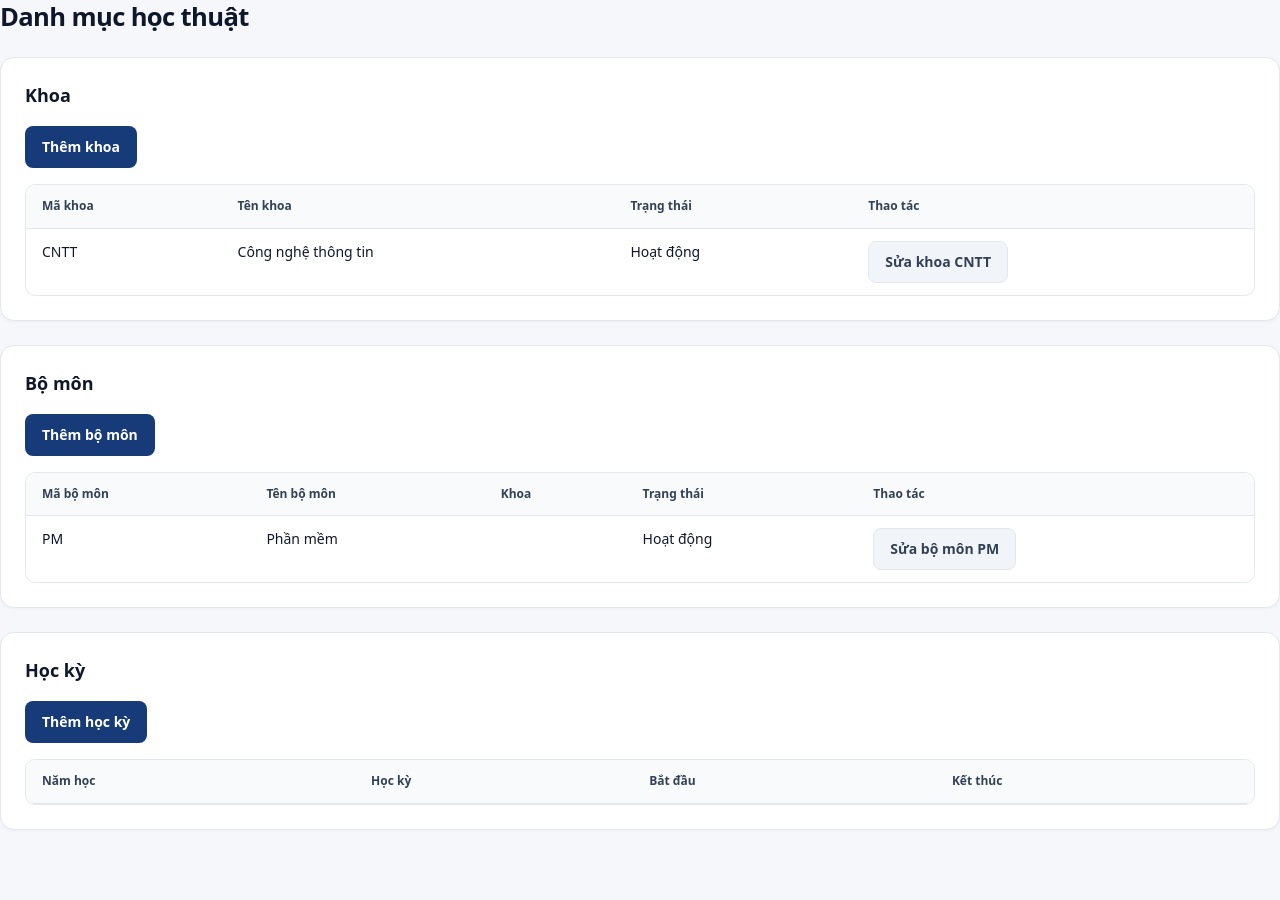
Test: lưu và mở lại trạng thái hoạt động của bộ môn theo cả hai chiều
What coordinates should you click on to do the following:
click the button "Sửa bộ môn PM"
I would click on:
 (945, 549)
Its box is [873,528,1016,570].
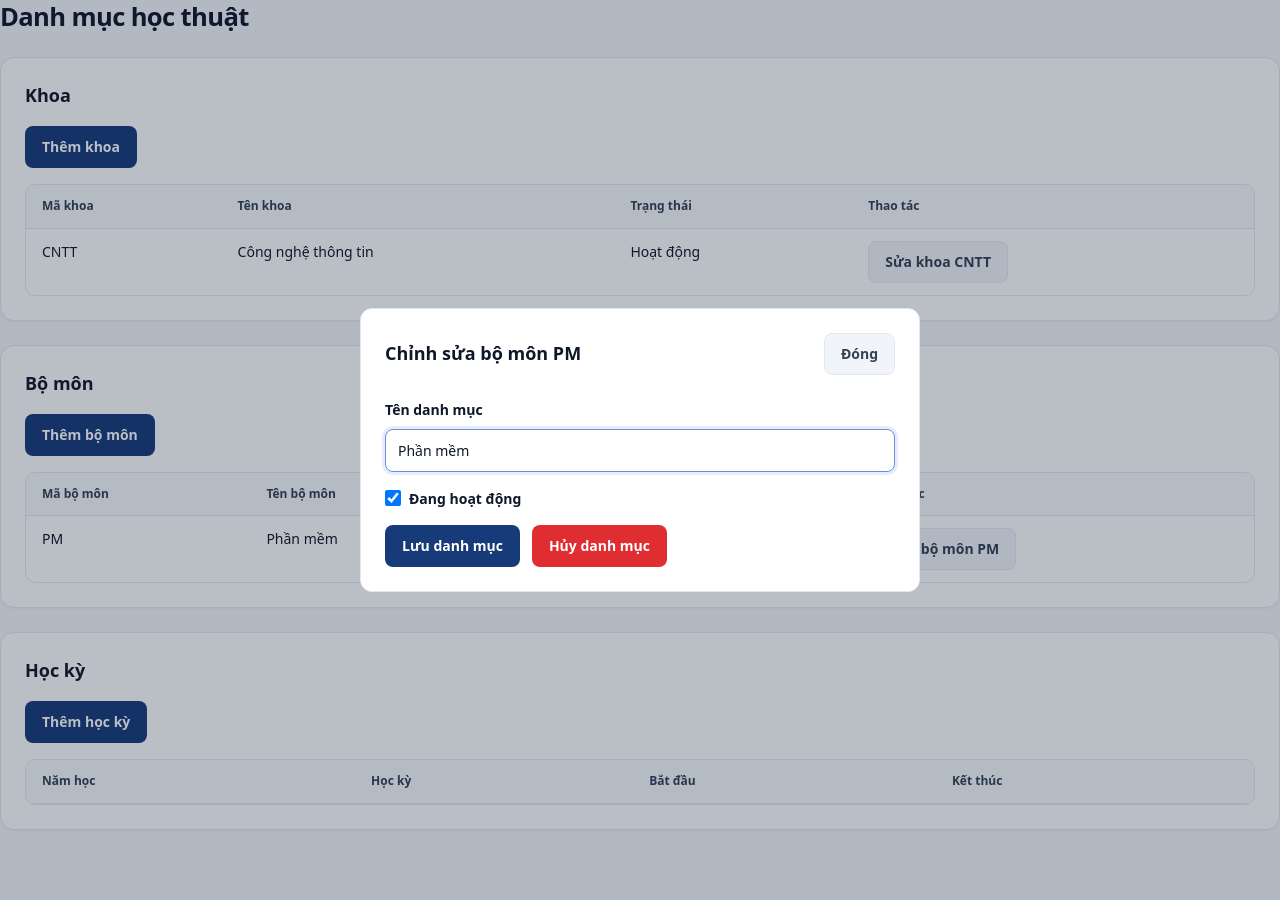
What coordinates should you click on to do the following:
click the checkbox labelled "Đang hoạt động"
I would click on:
 (393, 498)
Its box is [385,490,401,506].
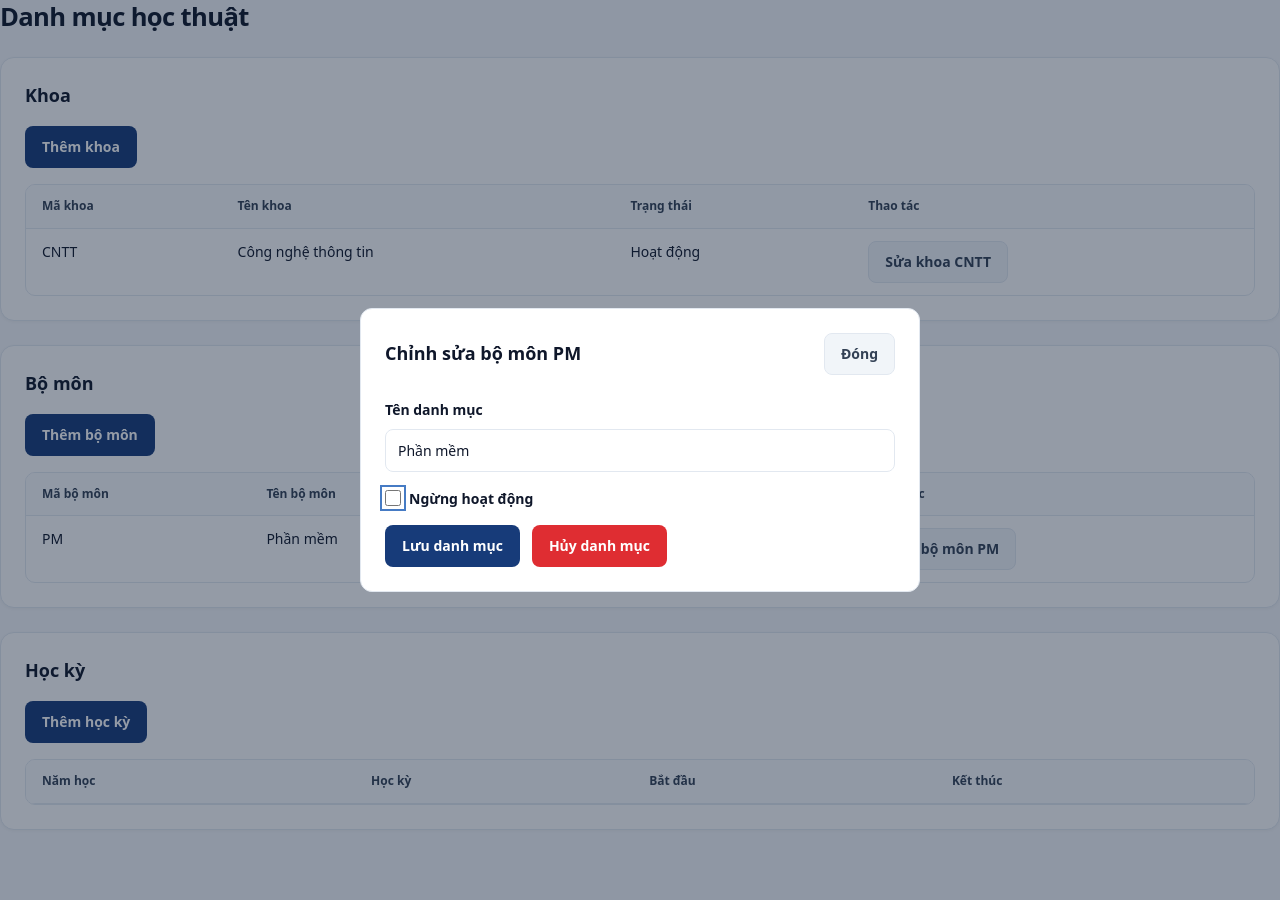
Check: the checkbox labelled "Ngừng hoạt động" is not checked, box [385,490,401,506]
What coordinates should you click on to do the following:
click the button "Lưu danh mục"
I would click on:
 (452, 546)
Its box is [385,525,520,567].
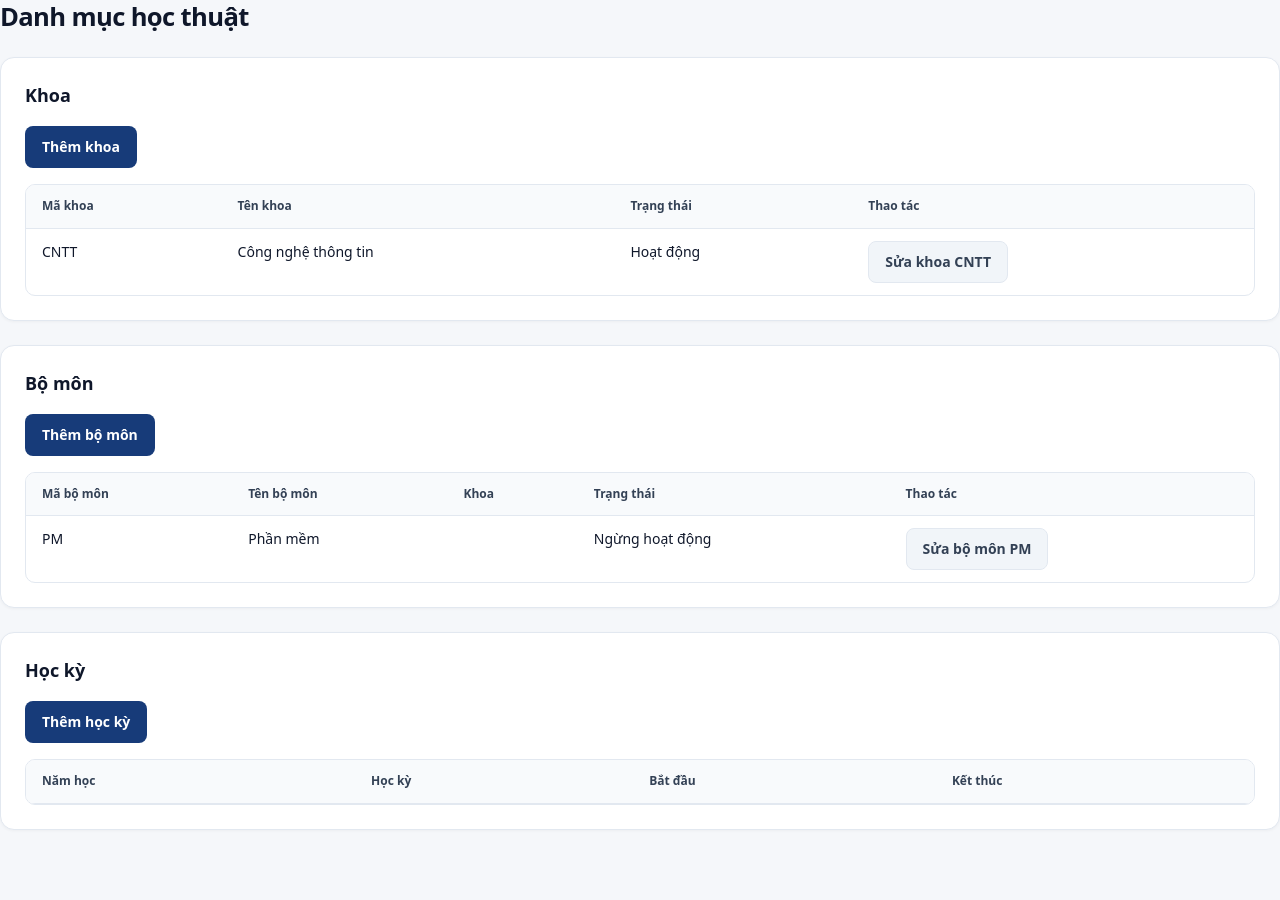
Check: the dialog is gone
Check: the row "Sửa bộ môn PM" shows "Ngừng hoạt động", box [594,529,711,548]
What coordinates should you click on to do the following:
click the button "Sửa bộ môn PM"
I would click on:
 (977, 549)
Its box is [906,528,1048,570].
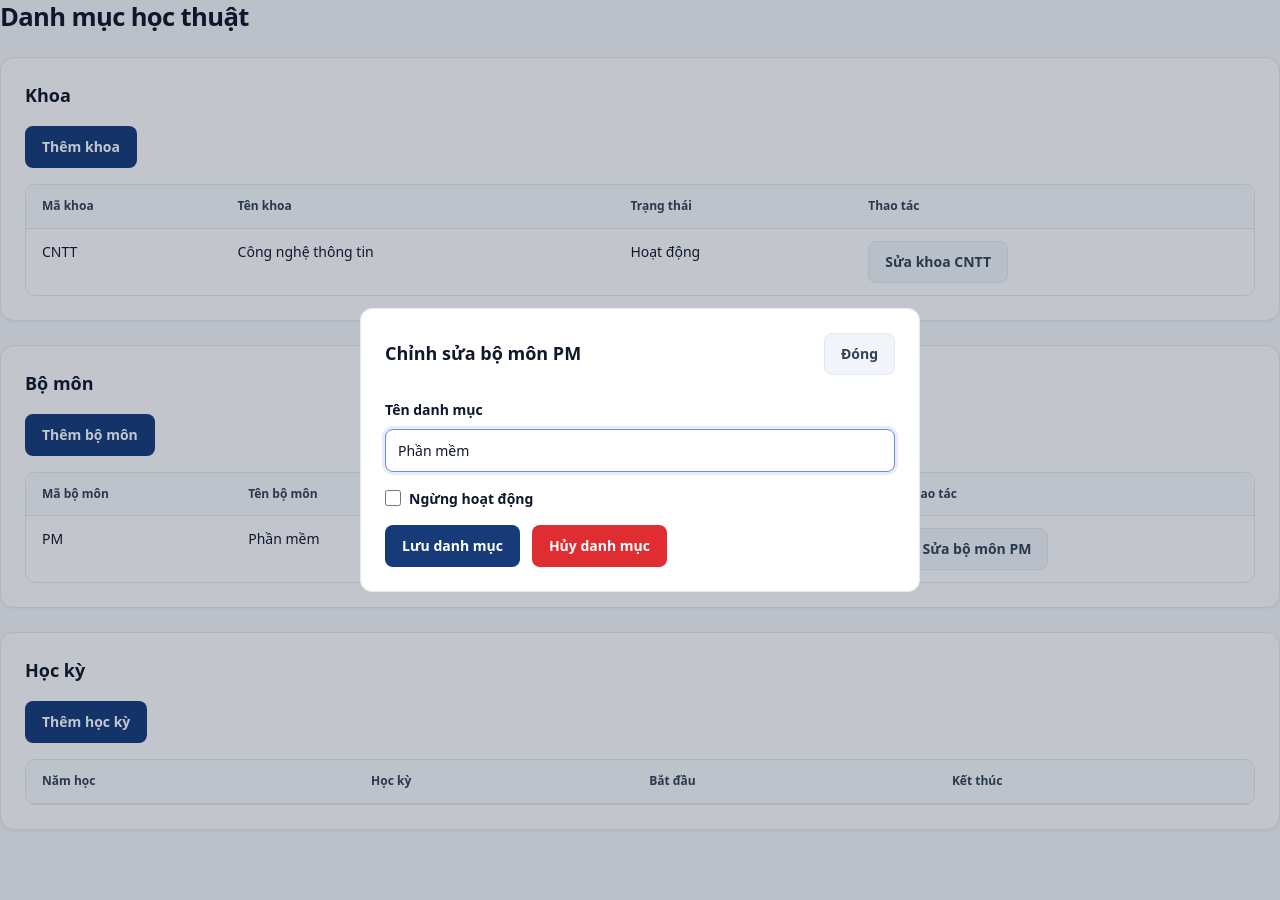
Check: the checkbox labelled "Ngừng hoạt động" is not checked
What coordinates should you click on to do the following:
click the checkbox labelled "Ngừng hoạt động"
I would click on:
 (393, 498)
Its box is [385,490,401,506].
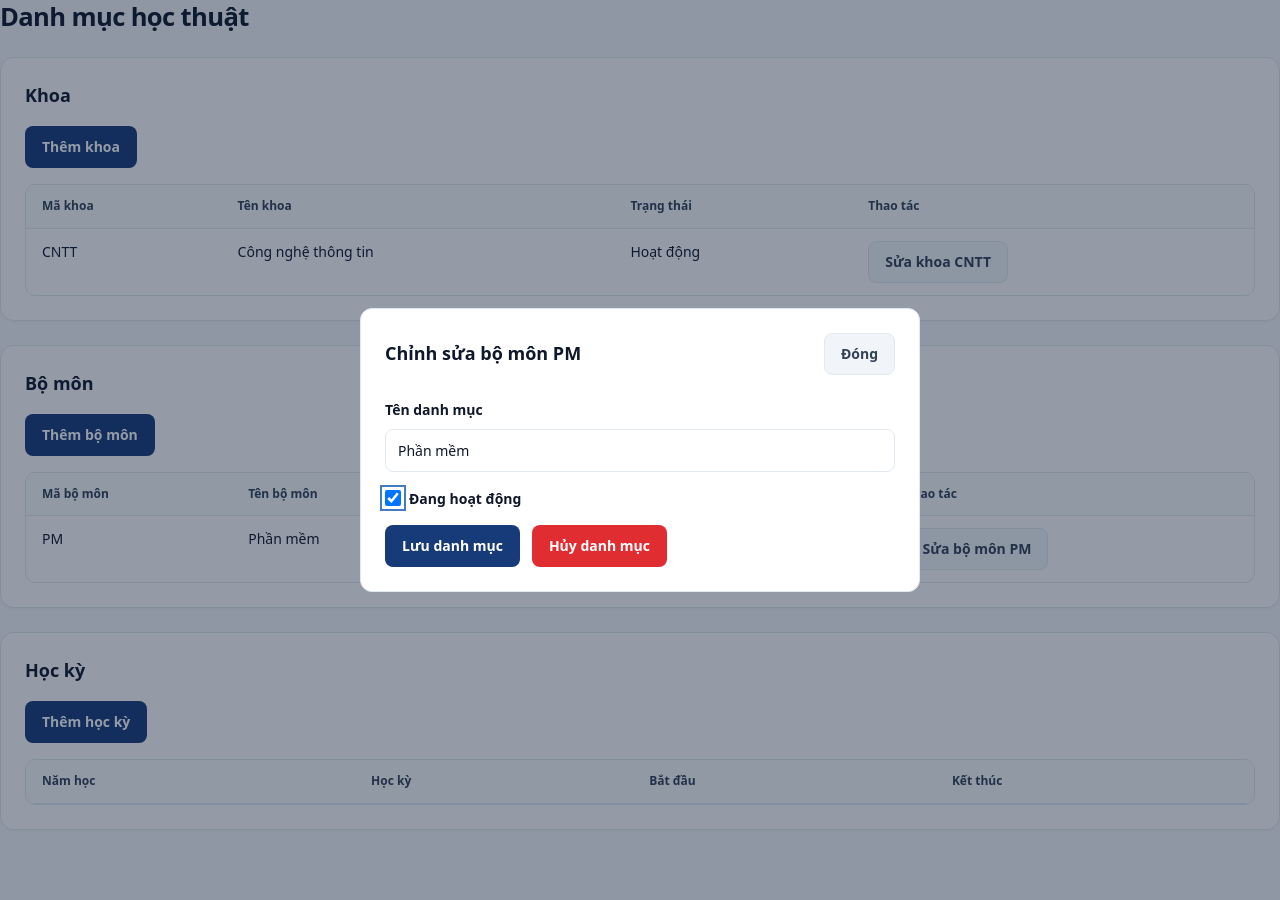
Check: the checkbox labelled "Đang hoạt động" is checked, box [385,490,401,506]
What coordinates should you click on to do the following:
click the button "Lưu danh mục"
I would click on:
 (452, 546)
Its box is [385,525,520,567].
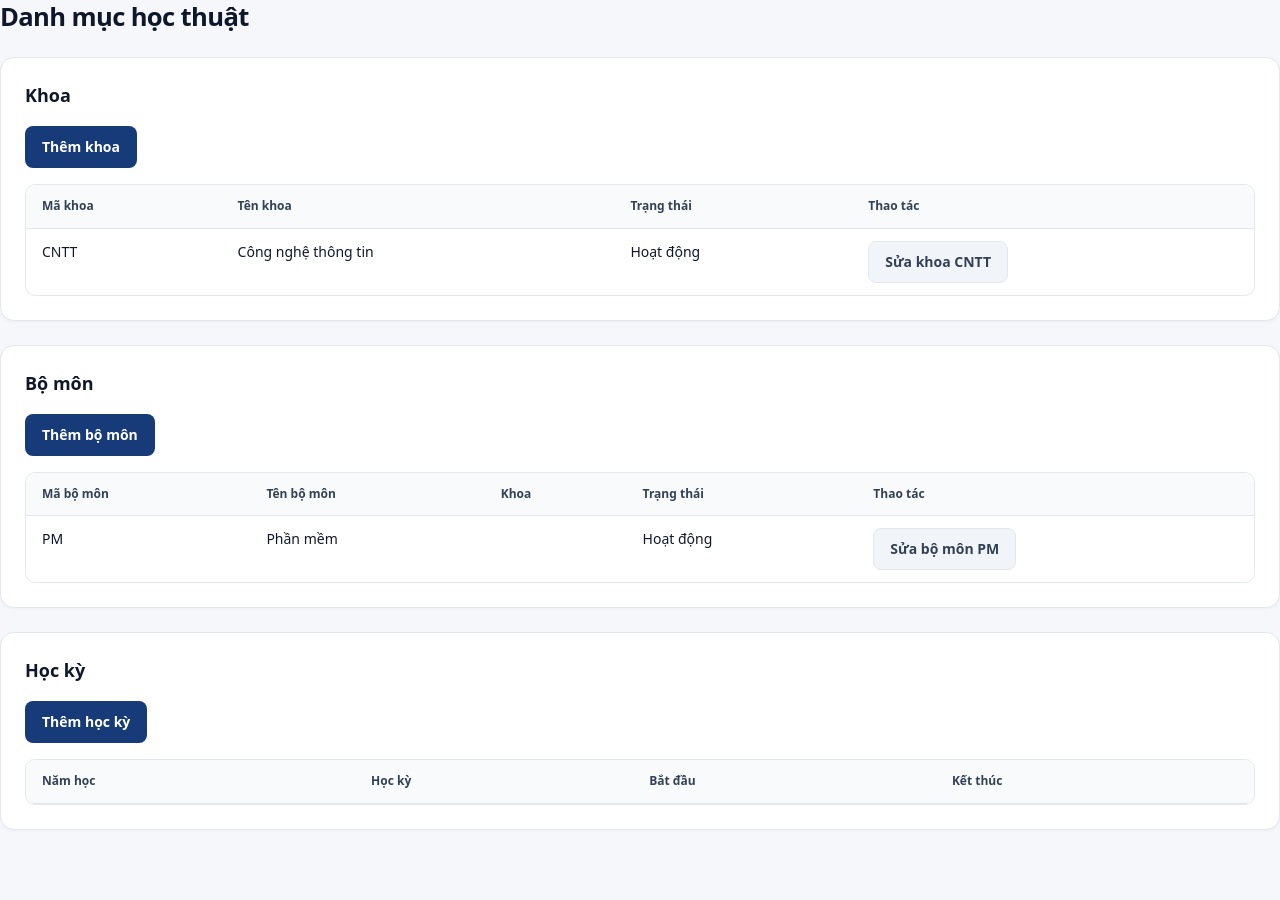
Check: the row "Sửa bộ môn PM" shows "Hoạt động", box [643,529,712,548]
Check: the dialog is gone
